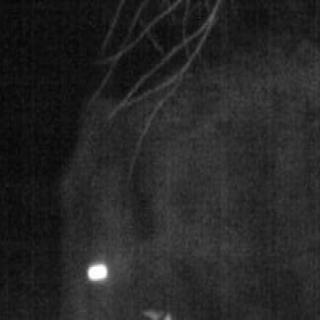Pig: (67, 33, 320, 320)
